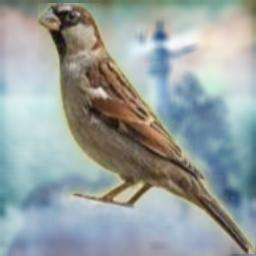Sparrow: (38, 3, 255, 254)
